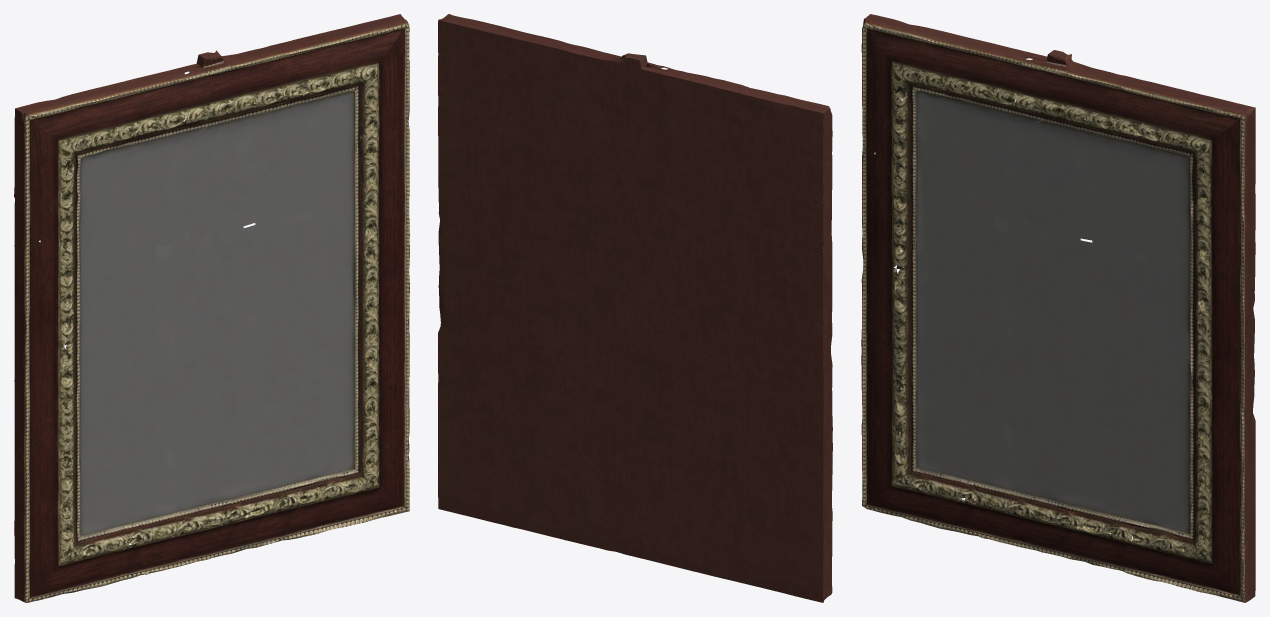
The model's file is w3hframe.glb.
3 views of the same model, side by side, from view 1: azimuth 30°, elevation 25°; view 2: azimuth 150°, elevation 25°; view 3: azimuth 330°, elevation 25° (orthographic).
Parts seen in each view (by area): view 1: Mesh0; view 2: Mesh0; view 3: Mesh0.
Part boxes in pixels (left/top/right/bottom): Mesh0: left=14, top=14, right=409, bottom=602; Mesh0: left=438, top=14, right=832, bottom=602; Mesh0: left=861, top=14, right=1255, bottom=602.
Size of the model in its own units: 0.6474 by 0.8 by 0.0412.
1 material, 1 textured.
